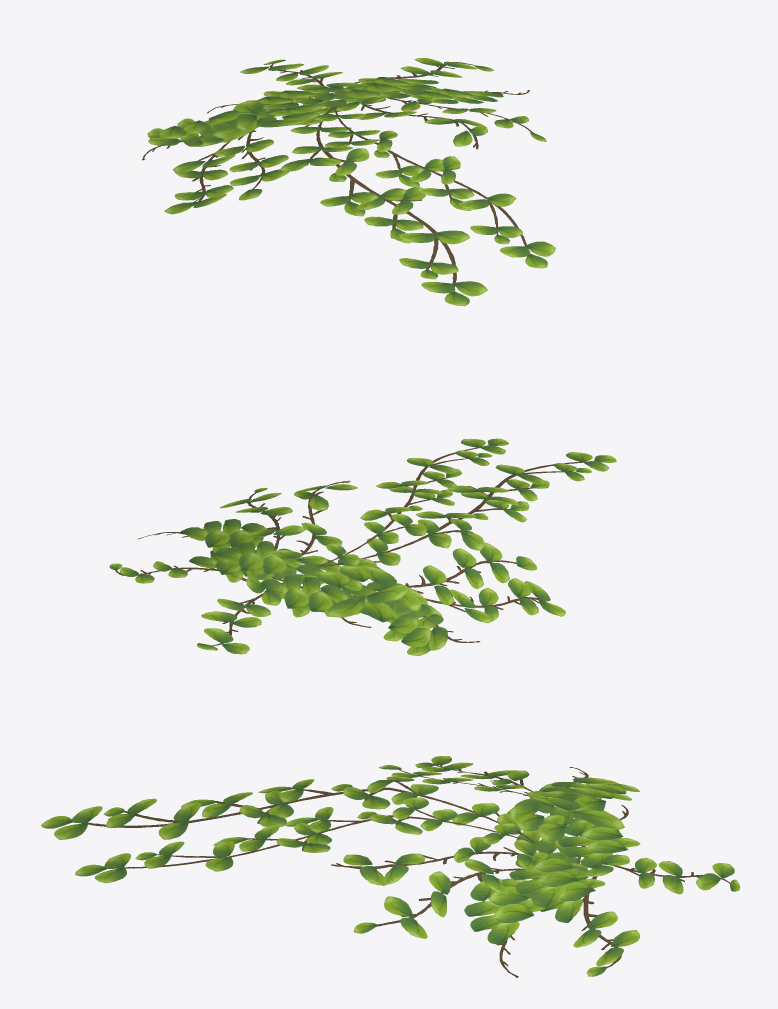
File: Creepers_002.fbx
3 views of the same model, one above another, from view 1: azimuth 30°, elevation 25°; view 2: azimuth 150°, elevation 25°; view 3: azimuth 270°, elevation 25° (orthographic). The views are drawn at different scales.
Parts seen in each view (by area): view 1: Creepers.002; view 2: Creepers.002; view 3: Creepers.002.
Boxes of the visible parts, box(x1,y1,x2,y2) form: Creepers.002: box(142, 58, 555, 306); Creepers.002: box(109, 438, 616, 655); Creepers.002: box(41, 756, 740, 977).
Bounding box in the file's own units: 0.8433 × 0.0805 × 1.09.
